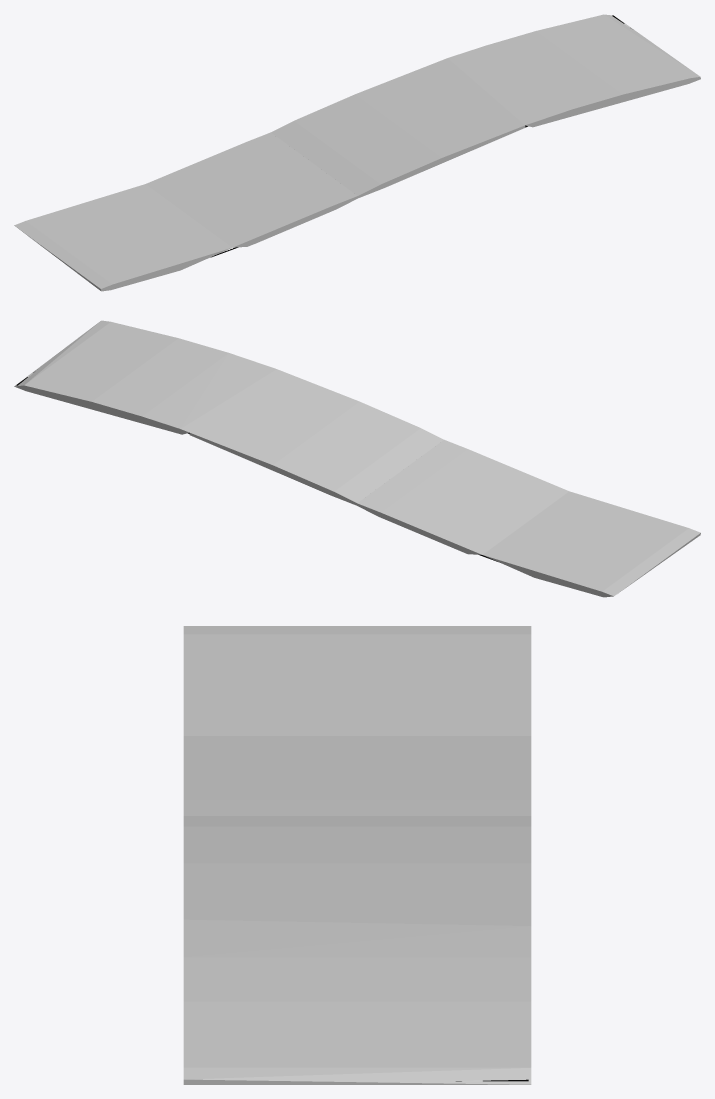
The model's file is SM_Env_Water_Plane_Slope_01.fbx.
3 renders of one model, top to bottom at view 1: azimuth 30°, elevation 25°; view 2: azimuth 150°, elevation 25°; view 3: azimuth 270°, elevation 25°, orthographic. The views are drawn at different scales.
Visible parts, largest first — view 1: SM_Env_Water_Plane_Slope_01_ConvexHulls; view 2: SM_Env_Water_Plane_Slope_01_ConvexHulls; view 3: SM_Env_Water_Plane_Slope_01_ConvexHulls.
Boxes of the visible parts, <box> form: SM_Env_Water_Plane_Slope_01_ConvexHulls: <box>14,14,700,291</box>; SM_Env_Water_Plane_Slope_01_ConvexHulls: <box>14,320,700,597</box>; SM_Env_Water_Plane_Slope_01_ConvexHulls: <box>183,626,531,1084</box>.
Bounding box in the file's own units: 2009 × 504 × 226.
Materials: 2 (1 with a texture image).
